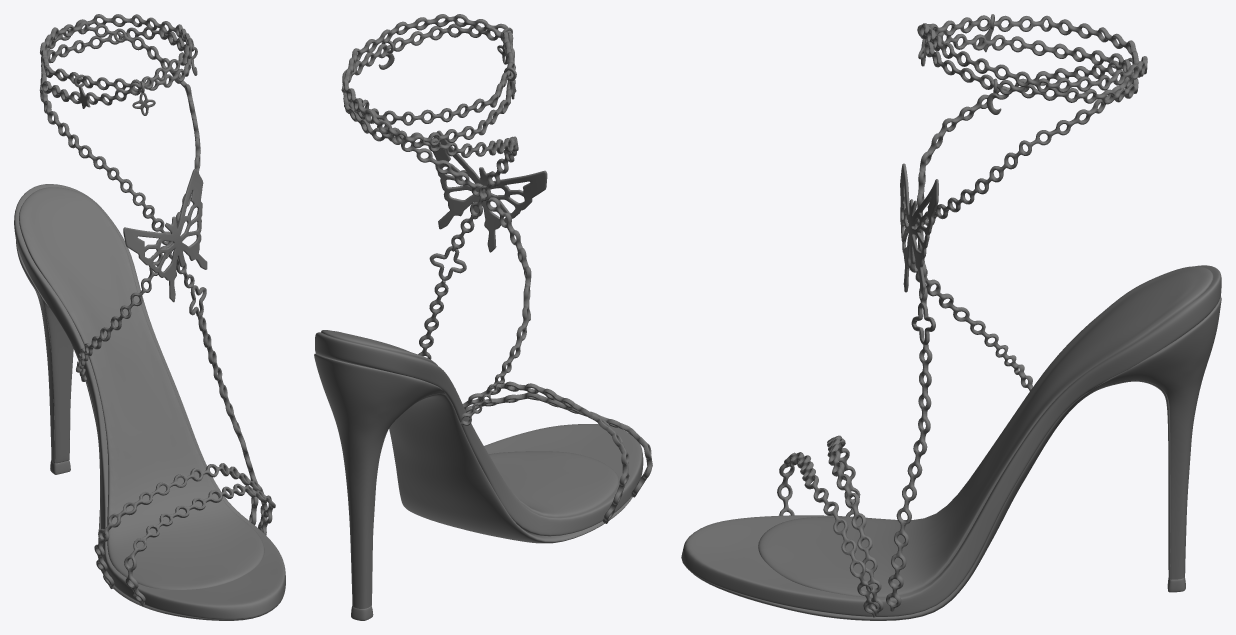
The model's file is heels-transformed.glb.
3 views of the same model, side by side, from view 1: azimuth 30°, elevation 25°; view 2: azimuth 150°, elevation 25°; view 3: azimuth 270°, elevation 25° (orthographic). The views are drawn at different scales.
Visible parts, largest first — view 1: Chain_Heels_sole_0, Chain_Heels_silver_0; view 2: Chain_Heels_silver_0, Chain_Heels_sole_0; view 3: Chain_Heels_silver_0, Chain_Heels_sole_0.
Boxes of the visible parts, <box> form: Chain_Heels_sole_0: <box>19,187,264,589</box>; Chain_Heels_silver_0: <box>14,14,285,620</box>; Chain_Heels_silver_0: <box>314,14,652,620</box>; Chain_Heels_sole_0: <box>321,330,619,517</box>; Chain_Heels_silver_0: <box>681,14,1221,620</box>; Chain_Heels_sole_0: <box>758,266,1213,597</box>.
Bounding box in the file's own units: 0.083 × 0.2102 × 0.184.
2 materials, 2 textured.
